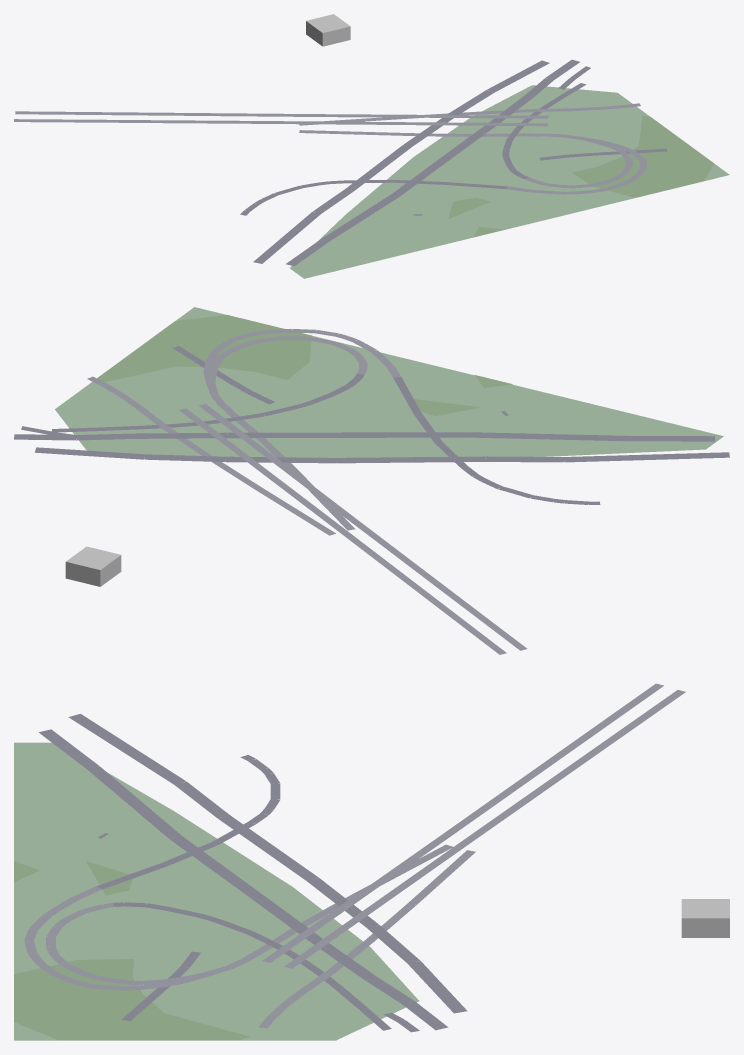
The model's file is 104_85_mid.glb.
The picture shows the model from 3 angles, top to bottom: view 1: azimuth 30°, elevation 25°; view 2: azimuth 150°, elevation 25°; view 3: azimuth 270°, elevation 25°; orthographic projection. The views are drawn at different scales.
Bounding box in the file's own units: 578 × 15.76 × 508.
